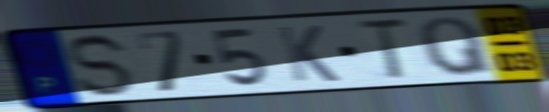5: (207, 27, 270, 89)
7: (134, 28, 185, 94)
K: (273, 23, 343, 84)
Q: (415, 14, 498, 78)
S: (65, 32, 138, 100)
T: (351, 16, 412, 82)
